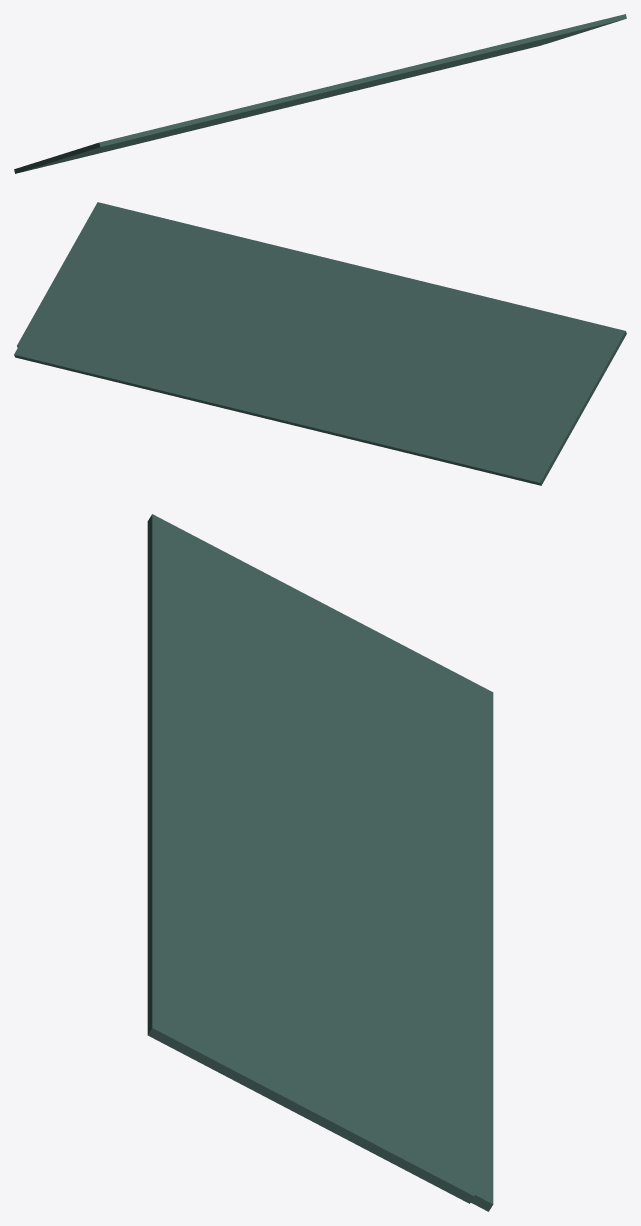
3 views of the same model, one above another, from view 1: azimuth 30°, elevation 25°; view 2: azimuth 150°, elevation 25°; view 3: azimuth 270°, elevation 25° (orthographic). The views are drawn at different scales.
Visible parts, largest first — view 1: B-ROOF-1-1; view 2: B-ROOF-1-1; view 3: B-ROOF-1-1.
Boxes of the visible parts, x1,y1,x2,y2 form: B-ROOF-1-1: (14, 14, 626, 173); B-ROOF-1-1: (14, 202, 626, 485); B-ROOF-1-1: (147, 514, 493, 1211).
Bounding box in the file's own units: 13.38 × 2.26 × 3.8.
